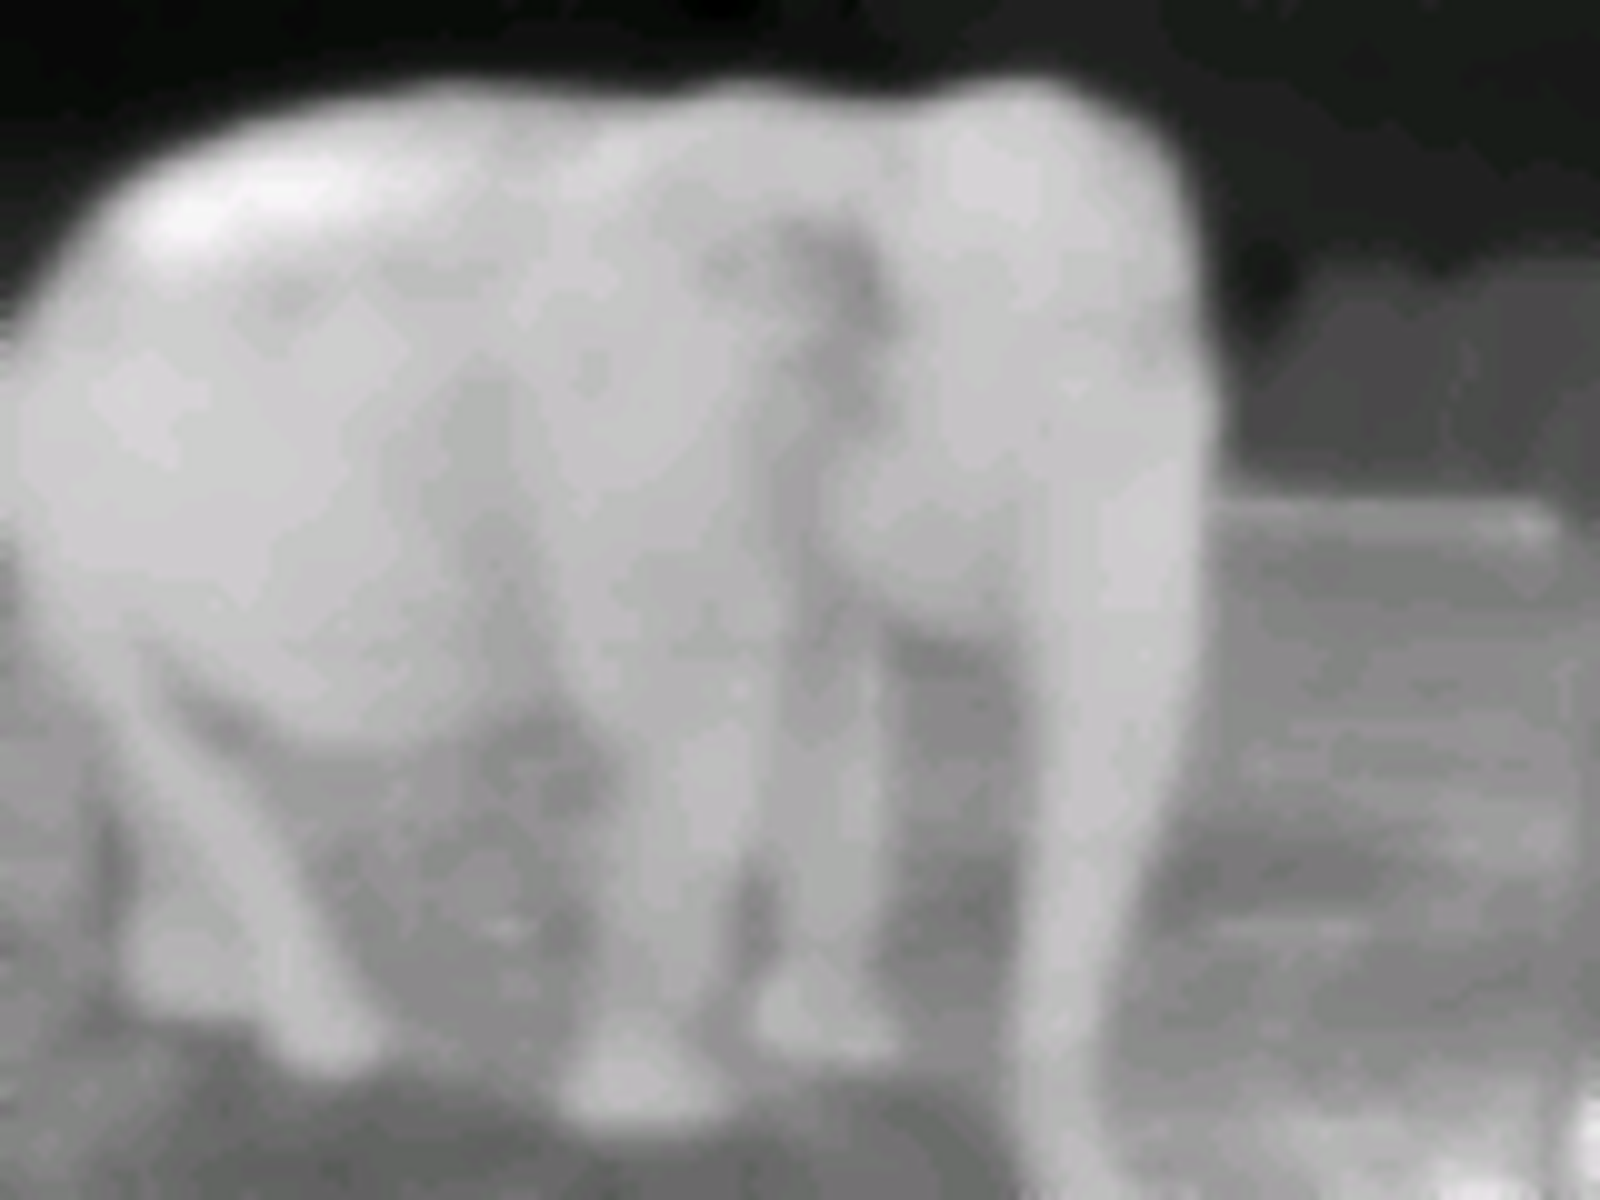elephant: (21, 83, 1214, 1191)
